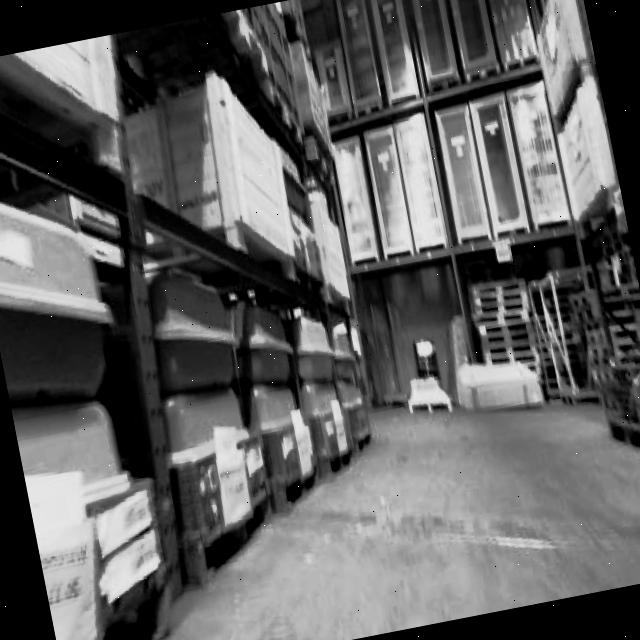ground: (23, 352, 640, 640)
pallet: (461, 246, 640, 422), (436, 300, 547, 424), (463, 268, 546, 396)
